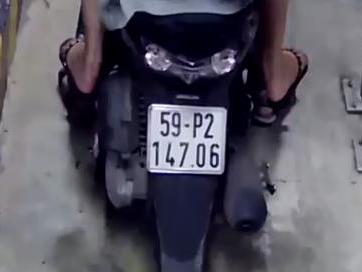num_plate: (146, 103, 225, 175)
